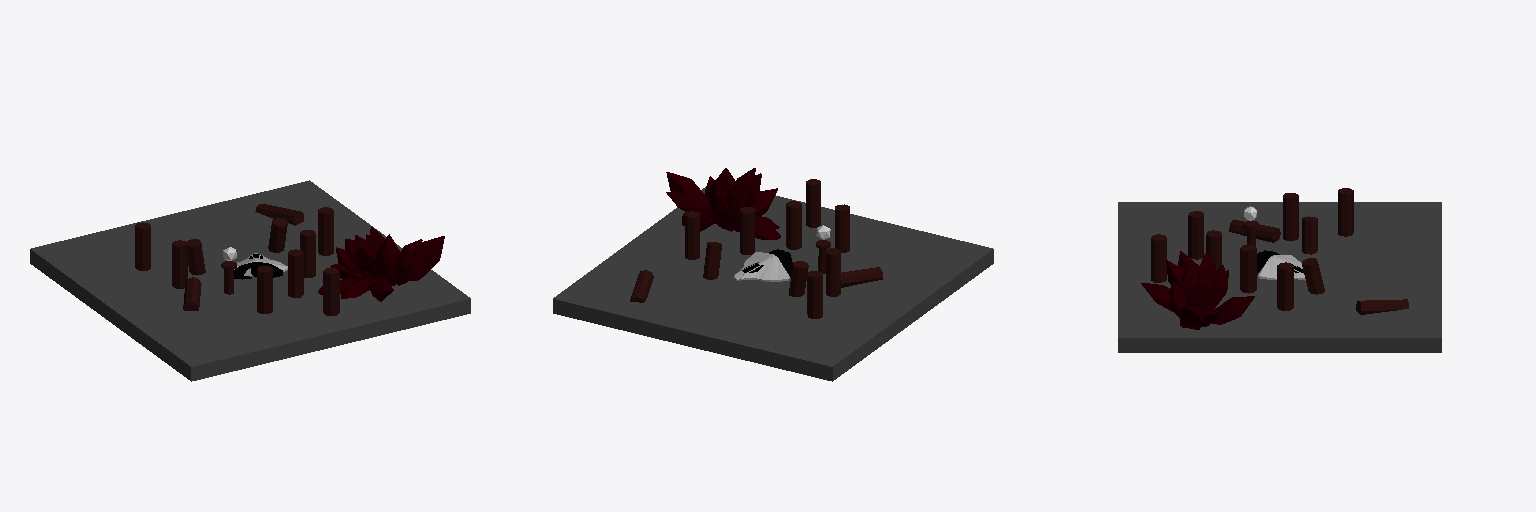
3 views of the same model, side by side, from view 1: azimuth 30°, elevation 25°; view 2: azimuth 150°, elevation 25°; view 3: azimuth 270°, elevation 25° (orthographic).
Parts seen in each view (by area): view 1: Cube, Cube.008, Cylinder.008, Cylinder.006, Cylinder.010, Cylinder.003, Cylinder.009, Cylinder.001, Cylinder.004, Cylinder.007, Cube.013, Cylinder.005 (+1 smaller); view 2: Cube, Circle, Cylinder.010, Cylinder.003, Cylinder.001, Cylinder.006, Cylinder.008, Cylinder.004, Cylinder.009, Cube.008, Cylinder, Cylinder.005 (+2 smaller); view 3: Cube, Cylinder.004, Cylinder.006, Cylinder.003, Cylinder.009, Cylinder.001, Cylinder.008, Cube.005, Cube.007, Cylinder.007, Circle, Cylinder.002 (+2 smaller).
Boxes of the visible parts, box(x1,y1,x2,y2) form: Cube: box(30, 180, 470, 381); Cube.008: box(408, 236, 444, 280); Cylinder.008: box(323, 268, 339, 315); Cylinder.006: box(318, 207, 333, 255); Cylinder.010: box(288, 249, 303, 297); Cylinder.003: box(135, 222, 150, 270); Cylinder.009: box(257, 266, 272, 313); Cylinder.001: box(172, 240, 187, 288); Cylinder.004: box(300, 230, 315, 277); Cylinder.007: box(255, 204, 303, 225); Cube.013: box(356, 246, 379, 279); Cylinder.005: box(268, 218, 287, 252); Cube: box(553, 187, 993, 381); Circle: box(734, 252, 789, 281); Cylinder.010: box(786, 201, 801, 249); Cylinder.003: box(807, 271, 822, 318); Cylinder.001: box(826, 248, 840, 296); Cylinder.006: box(685, 211, 699, 259); Cylinder.008: box(806, 179, 820, 227); Cylinder.004: box(740, 207, 754, 254); Cylinder.009: box(835, 204, 849, 252); Cube.008: box(666, 172, 709, 206); Cylinder: box(841, 267, 882, 287); Cylinder.005: box(703, 242, 721, 279); Cube: box(1118, 202, 1441, 352); Cylinder.004: box(1240, 245, 1256, 293); Cylinder.006: box(1277, 262, 1293, 310); Cylinder.003: box(1338, 188, 1353, 236); Cylinder.009: box(1188, 211, 1203, 259); Cylinder.001: box(1283, 193, 1298, 240); Cylinder.008: box(1151, 234, 1166, 282); Cube.005: box(1194, 264, 1218, 307); Cube.007: box(1212, 296, 1254, 324); Cylinder.007: box(1356, 299, 1408, 314); Circle: box(1258, 255, 1305, 280); Cylinder.002: box(1302, 216, 1317, 254).
Bounding box in the file's own units: 41.41 × 9.11 × 39.88.